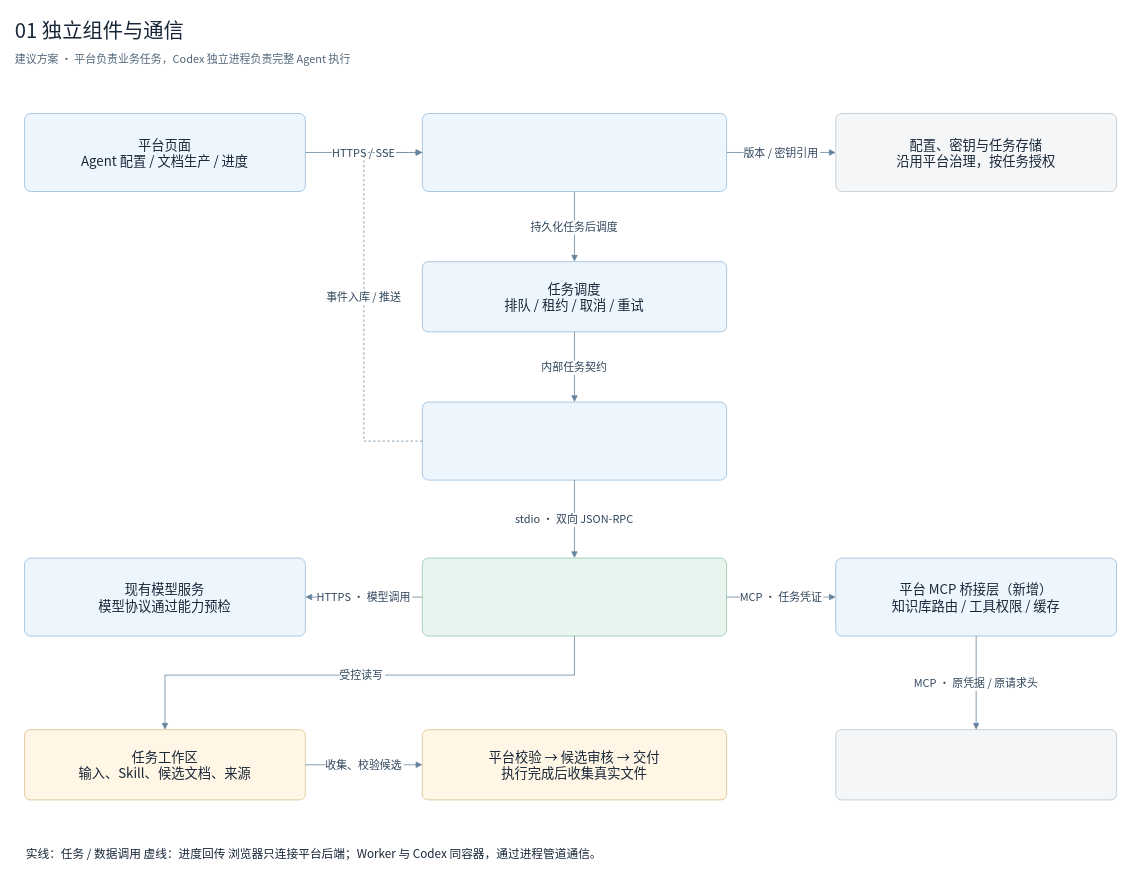
Image size: 1140x879. Some labels were removed from this diagram. The shapes that lost their labels are listed below. From the top down, each one's centre as x and y in pixels, then its label:
[574,152]: 平台后端 鉴权 / 配置快照 / 任务与事件
[574,440]: Codex 运行适配器 独立 Worker / 容器
[574,596]: Codex app-server 固定版本 · 独立子进程
[976,764]: 现有 MCP 服务 保持服务、知识库、请求头配置
